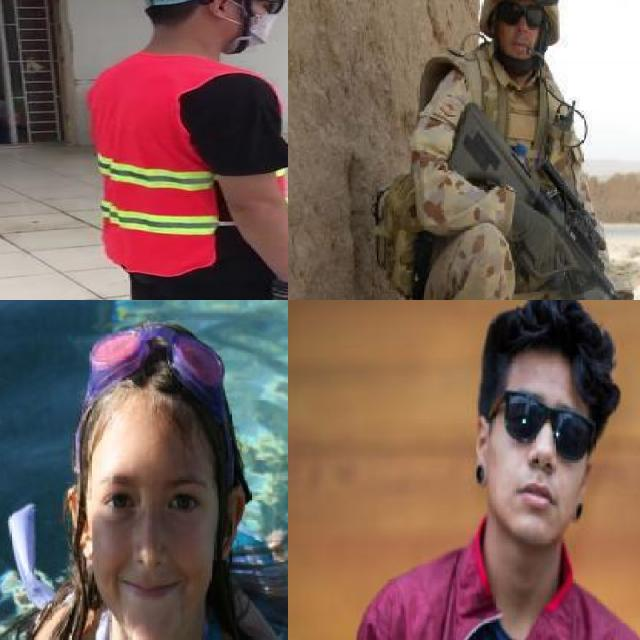No_Glasses: (82, 462, 219, 540)
face_mask: (212, 0, 288, 45)
face_nomask: (88, 468, 212, 607), (501, 389, 592, 518), (500, 2, 546, 62)
glasses: (72, 322, 236, 476), (487, 384, 605, 457), (485, 0, 562, 31)
head_helmet: (486, 0, 564, 13)
head_nohelmet: (478, 300, 613, 383)
person: (341, 300, 640, 640), (0, 333, 288, 640), (404, 0, 636, 300), (70, 0, 288, 300)
vest: (88, 54, 264, 272), (277, 166, 288, 196)
